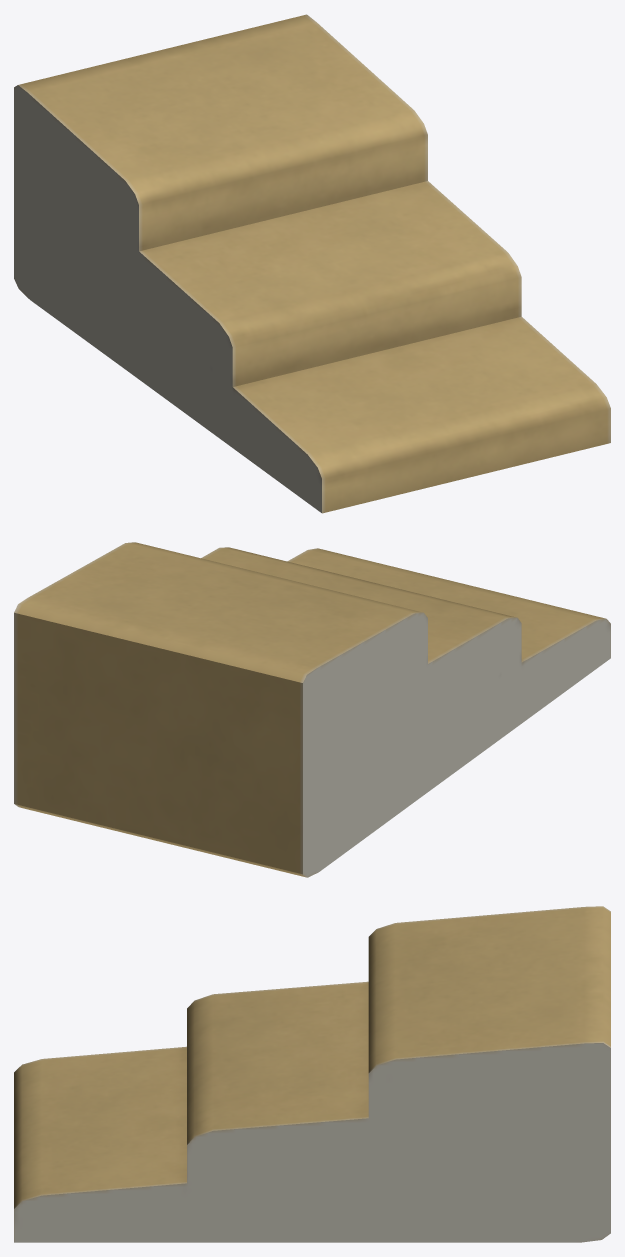
File: dog_stairs.fbx
The picture shows the model from 3 angles, top to bottom: view 1: azimuth 30°, elevation 25°; view 2: azimuth 150°, elevation 25°; view 3: azimuth 270°, elevation 25°; orthographic projection. The views are drawn at different scales.
Visible parts, largest first — view 1: dog_stairs_part_1; view 2: dog_stairs_part_1; view 3: dog_stairs_part_1.
Boxes of the visible parts, box(x1,y1,x2,y2) form: dog_stairs_part_1: box(14, 14, 610, 513); dog_stairs_part_1: box(14, 542, 610, 877); dog_stairs_part_1: box(14, 906, 610, 1242).
Bounding box in the file's own units: 54.41 × 37.12 × 100.
Materials: 1 (1 with a texture image).
